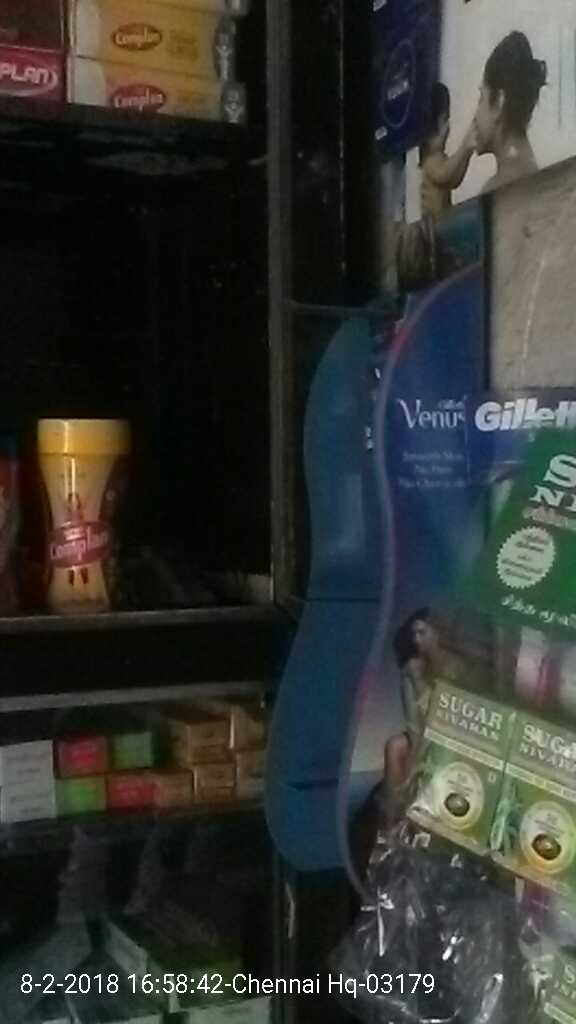reject: (169, 420, 301, 521)
